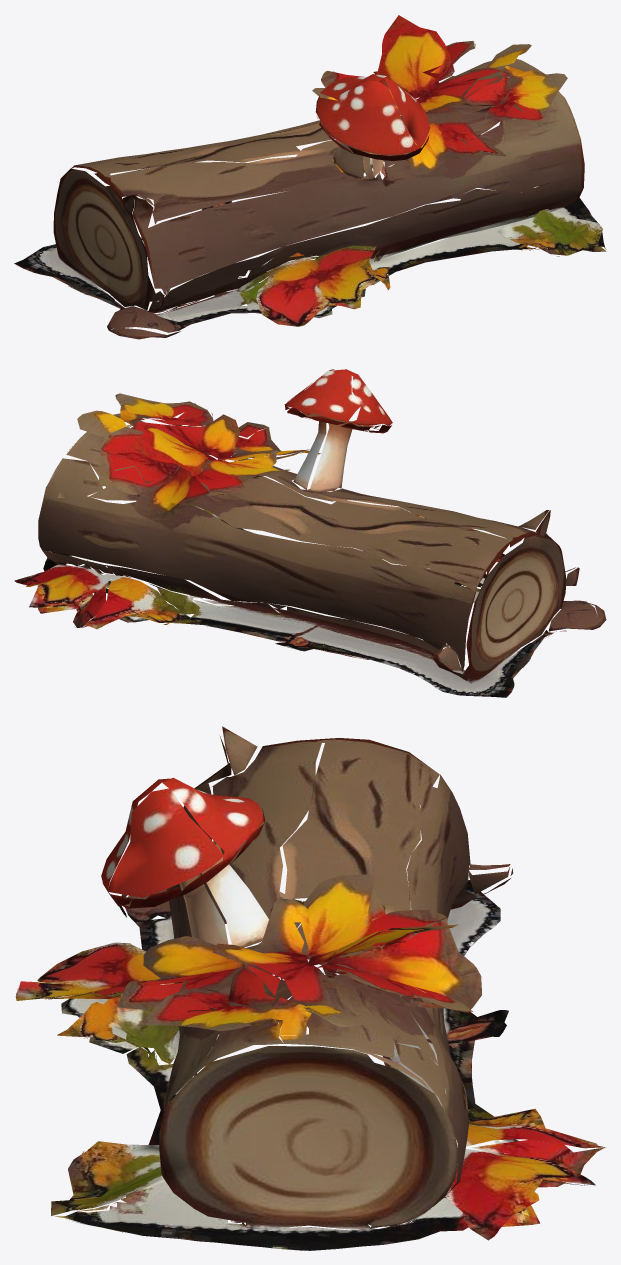
File: kizil_kutuk.glb
The picture shows the model from 3 angles, top to bottom: view 1: azimuth 30°, elevation 25°; view 2: azimuth 150°, elevation 25°; view 3: azimuth 270°, elevation 25°; orthographic projection. The views are drawn at different scales.
Parts seen in each view (by area): view 1: geometry_0; view 2: geometry_0; view 3: geometry_0.
Part boxes in pixels (bbox=[...]): geometry_0: bbox=[14, 15, 606, 339]; geometry_0: bbox=[14, 369, 606, 697]; geometry_0: bbox=[15, 726, 605, 1250].
Bounding box in the file's own units: 0.9838 × 0.3768 × 0.6637.
1 material, 1 textured.
